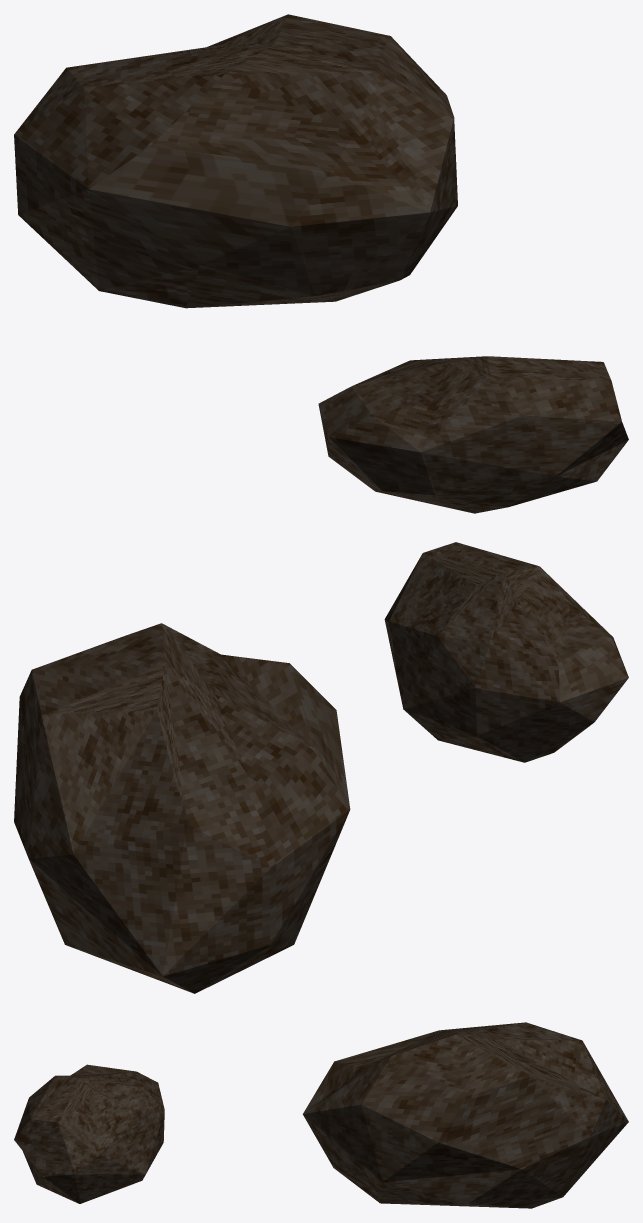
Rendered from cave-stone2.glb.
3 views of the same model, one above another, from view 1: azimuth 30°, elevation 25°; view 2: azimuth 150°, elevation 25°; view 3: azimuth 270°, elevation 25° (orthographic). The views are drawn at different scales.
Parts seen in each view (by area): view 1: Sphere.003; view 2: Sphere.003; view 3: Sphere.003.
Part boxes in pixels (bbox=[...]): Sphere.003: bbox=[14, 14, 628, 513]; Sphere.003: bbox=[14, 542, 628, 993]; Sphere.003: bbox=[14, 1022, 628, 1208].
Bounding box in the file's own units: 0.1503 × 0.097 × 0.3238.
Materials: 2 (2 with a texture image).
